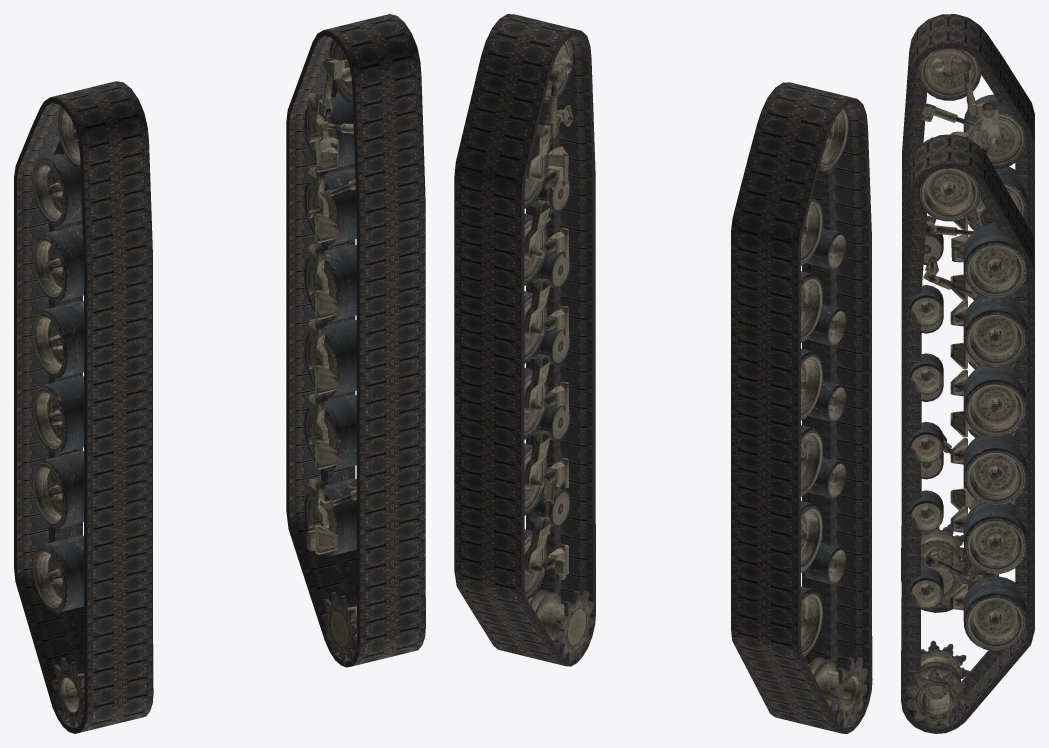
File: Chassis.glb
3 views of the same model, side by side, from view 1: azimuth 30°, elevation 25°; view 2: azimuth 150°, elevation 25°; view 3: azimuth 270°, elevation 25° (orthographic). The views are drawn at different scales.
Visible parts, largest first — view 1: set_0_group_0, set_1_group_0, set_3_group_0, set_2_group_0; view 2: set_0_group_0, set_1_group_0, set_3_group_0, set_2_group_0; view 3: set_3_group_0, set_1_group_0, set_2_group_0, set_0_group_0.
Boxes of the visible parts, bbox=[...] form: set_0_group_0: bbox=[14, 81, 153, 733]; set_1_group_0: bbox=[286, 14, 425, 667]; set_3_group_0: bbox=[304, 39, 358, 664]; set_2_group_0: bbox=[32, 107, 84, 727]; set_0_group_0: bbox=[731, 82, 872, 733]; set_1_group_0: bbox=[454, 14, 595, 666]; set_3_group_0: bbox=[524, 39, 595, 664]; set_2_group_0: bbox=[801, 108, 867, 727]; set_3_group_0: bbox=[906, 168, 1027, 727]; set_1_group_0: bbox=[901, 134, 1034, 733]; set_2_group_0: bbox=[917, 48, 1027, 610]; set_0_group_0: bbox=[901, 14, 1034, 612].
Size of the model in its own units: 3.67 by 6.49 by 1.38.
Materials: 4 (4 with a texture image).
